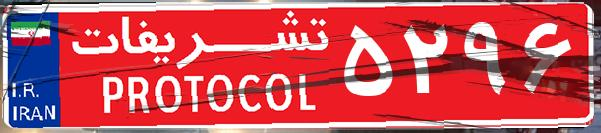2: (400, 20, 460, 115)
5: (340, 20, 400, 115)
6: (520, 20, 580, 115)
9: (460, 20, 520, 115)
تشریفات: (60, 8, 340, 125)
